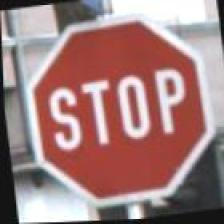Stop: (15, 3, 220, 214)
